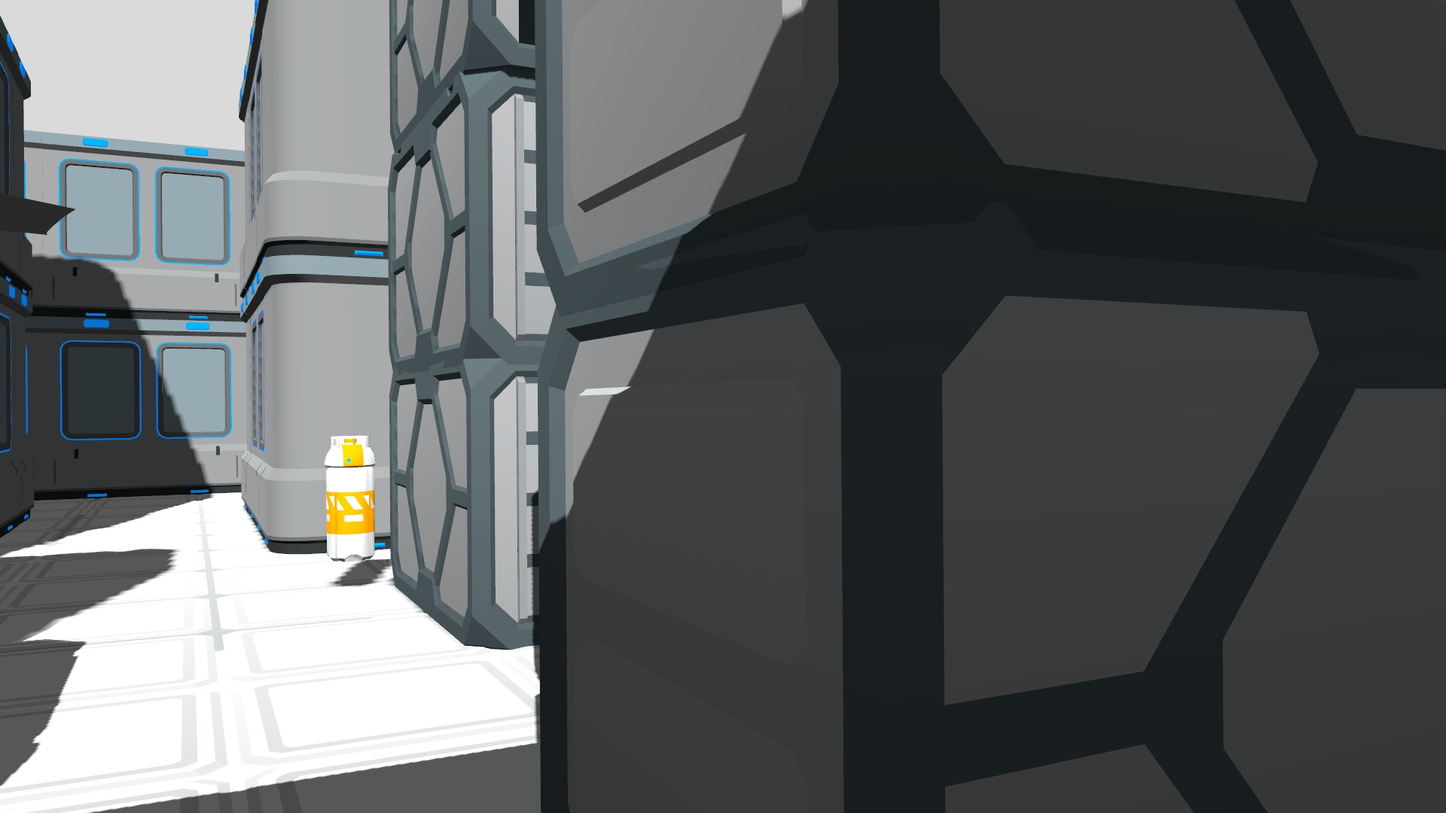yellow_barrel: (322, 428, 381, 565)
